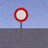sign: (14, 8, 28, 37)
